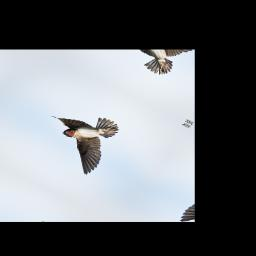Swallow: (25, 97, 132, 178)
